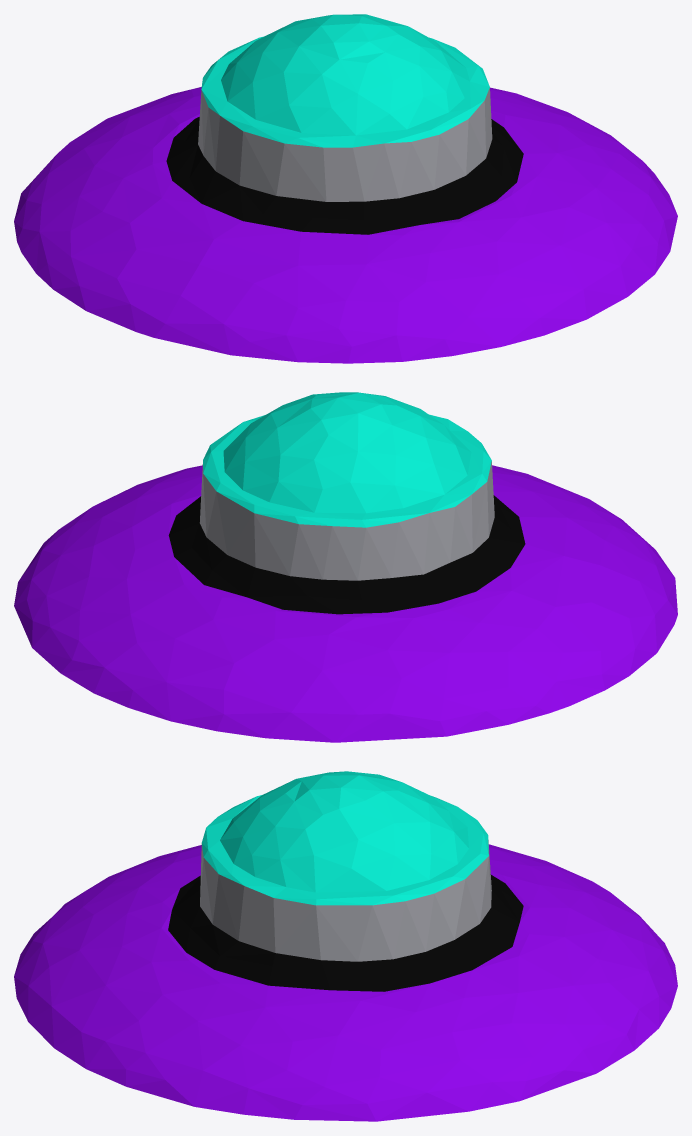
The model's file is ufo.dae.
3 renders of one model, top to bottom at view 1: azimuth 30°, elevation 25°; view 2: azimuth 150°, elevation 25°; view 3: azimuth 270°, elevation 25°, orthographic.
Parts seen in each view (by area): view 1: Haneubu+uf; view 2: Haneubu+uf; view 3: Haneubu+uf.
Boxes of the visible parts, x1,y1,x2,y2 form: Haneubu+uf: (14,14,677,363); Haneubu+uf: (14,392,677,742); Haneubu+uf: (14,771,677,1121).
Bounding box in the file's own units: 1.91 × 1.91 × 0.7402.
